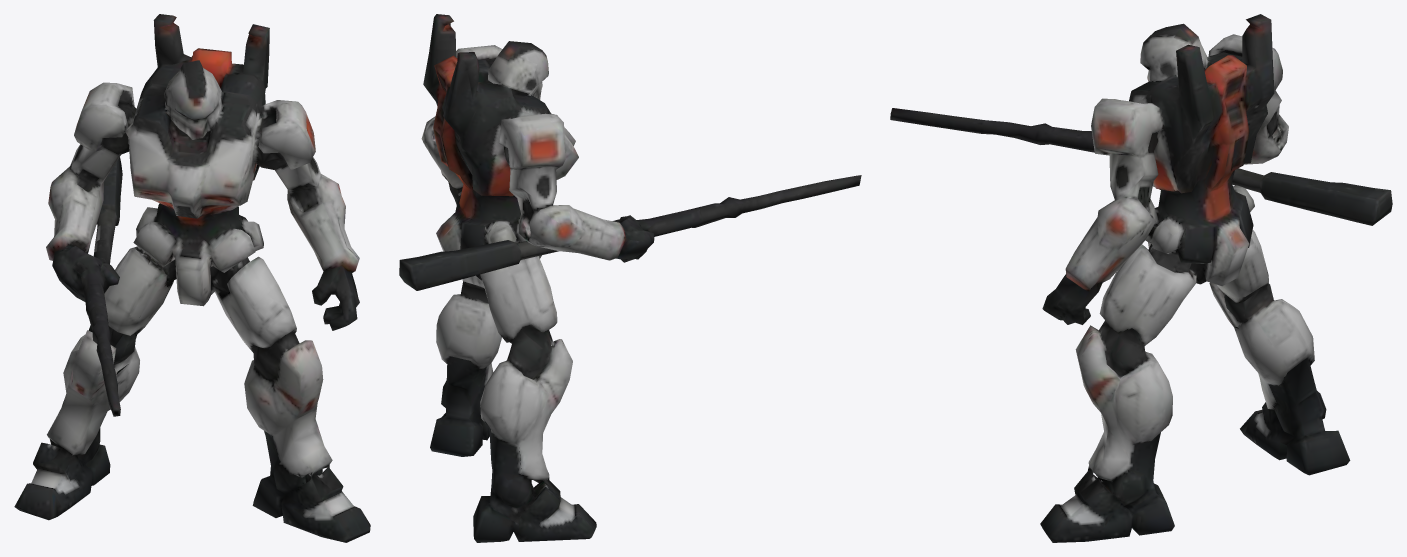
Rendered from detail_2_lo2.glb.
3 renders of one model, left to right at view 1: azimuth 30°, elevation 25°; view 2: azimuth 150°, elevation 25°; view 3: azimuth 270°, elevation 25°, orthographic. The views are drawn at different scales.
Parts seen in each view (by area): view 1: Mesh_0.001; view 2: Mesh_0.001; view 3: Mesh_0.001.
Part boxes in pixels (<box>): Mesh_0.001: <box>14,14,370,542</box>; Mesh_0.001: <box>399,14,861,542</box>; Mesh_0.001: <box>890,14,1392,542</box>.
Bounding box in the file's own units: 0.7772 × 1.01 × 0.9661.
Materials: 1 (1 with a texture image).
